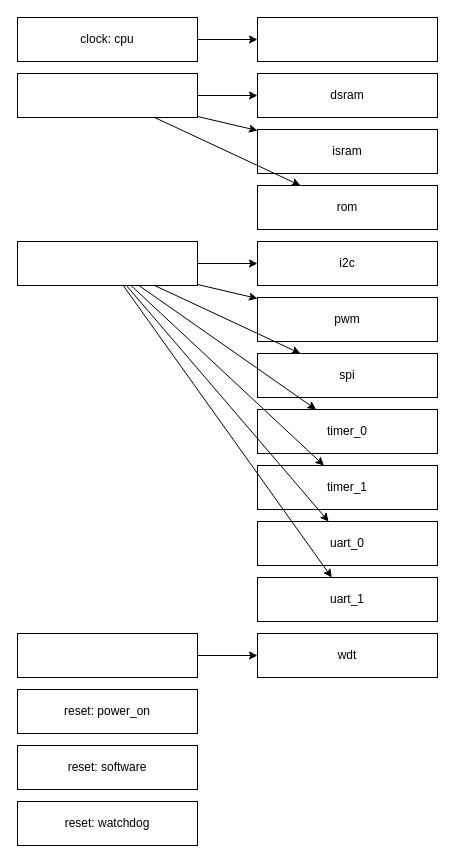
This 455x863 diagram has some shape labels left out. Each missing label, with the centre of its shape:
clock: mem: pixel 107 95
clock: peri: pixel 107 263
clock: wdt: pixel 107 655
syscsr: pixel 347 39
